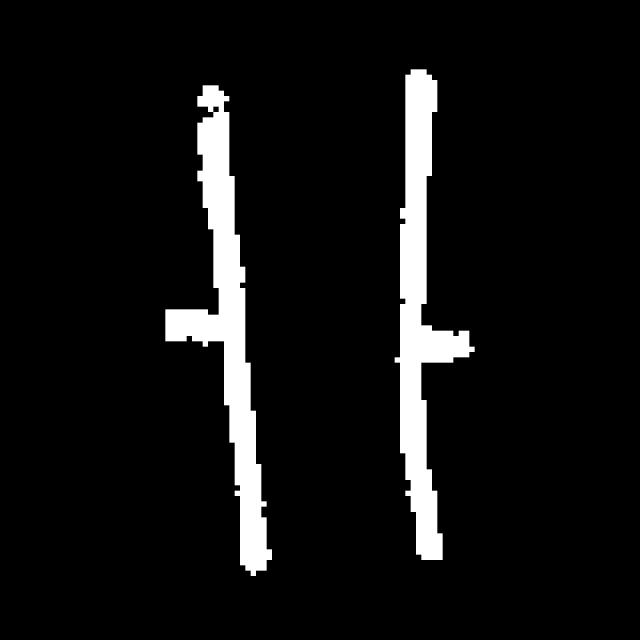capacitor: (180, 56, 450, 580)
